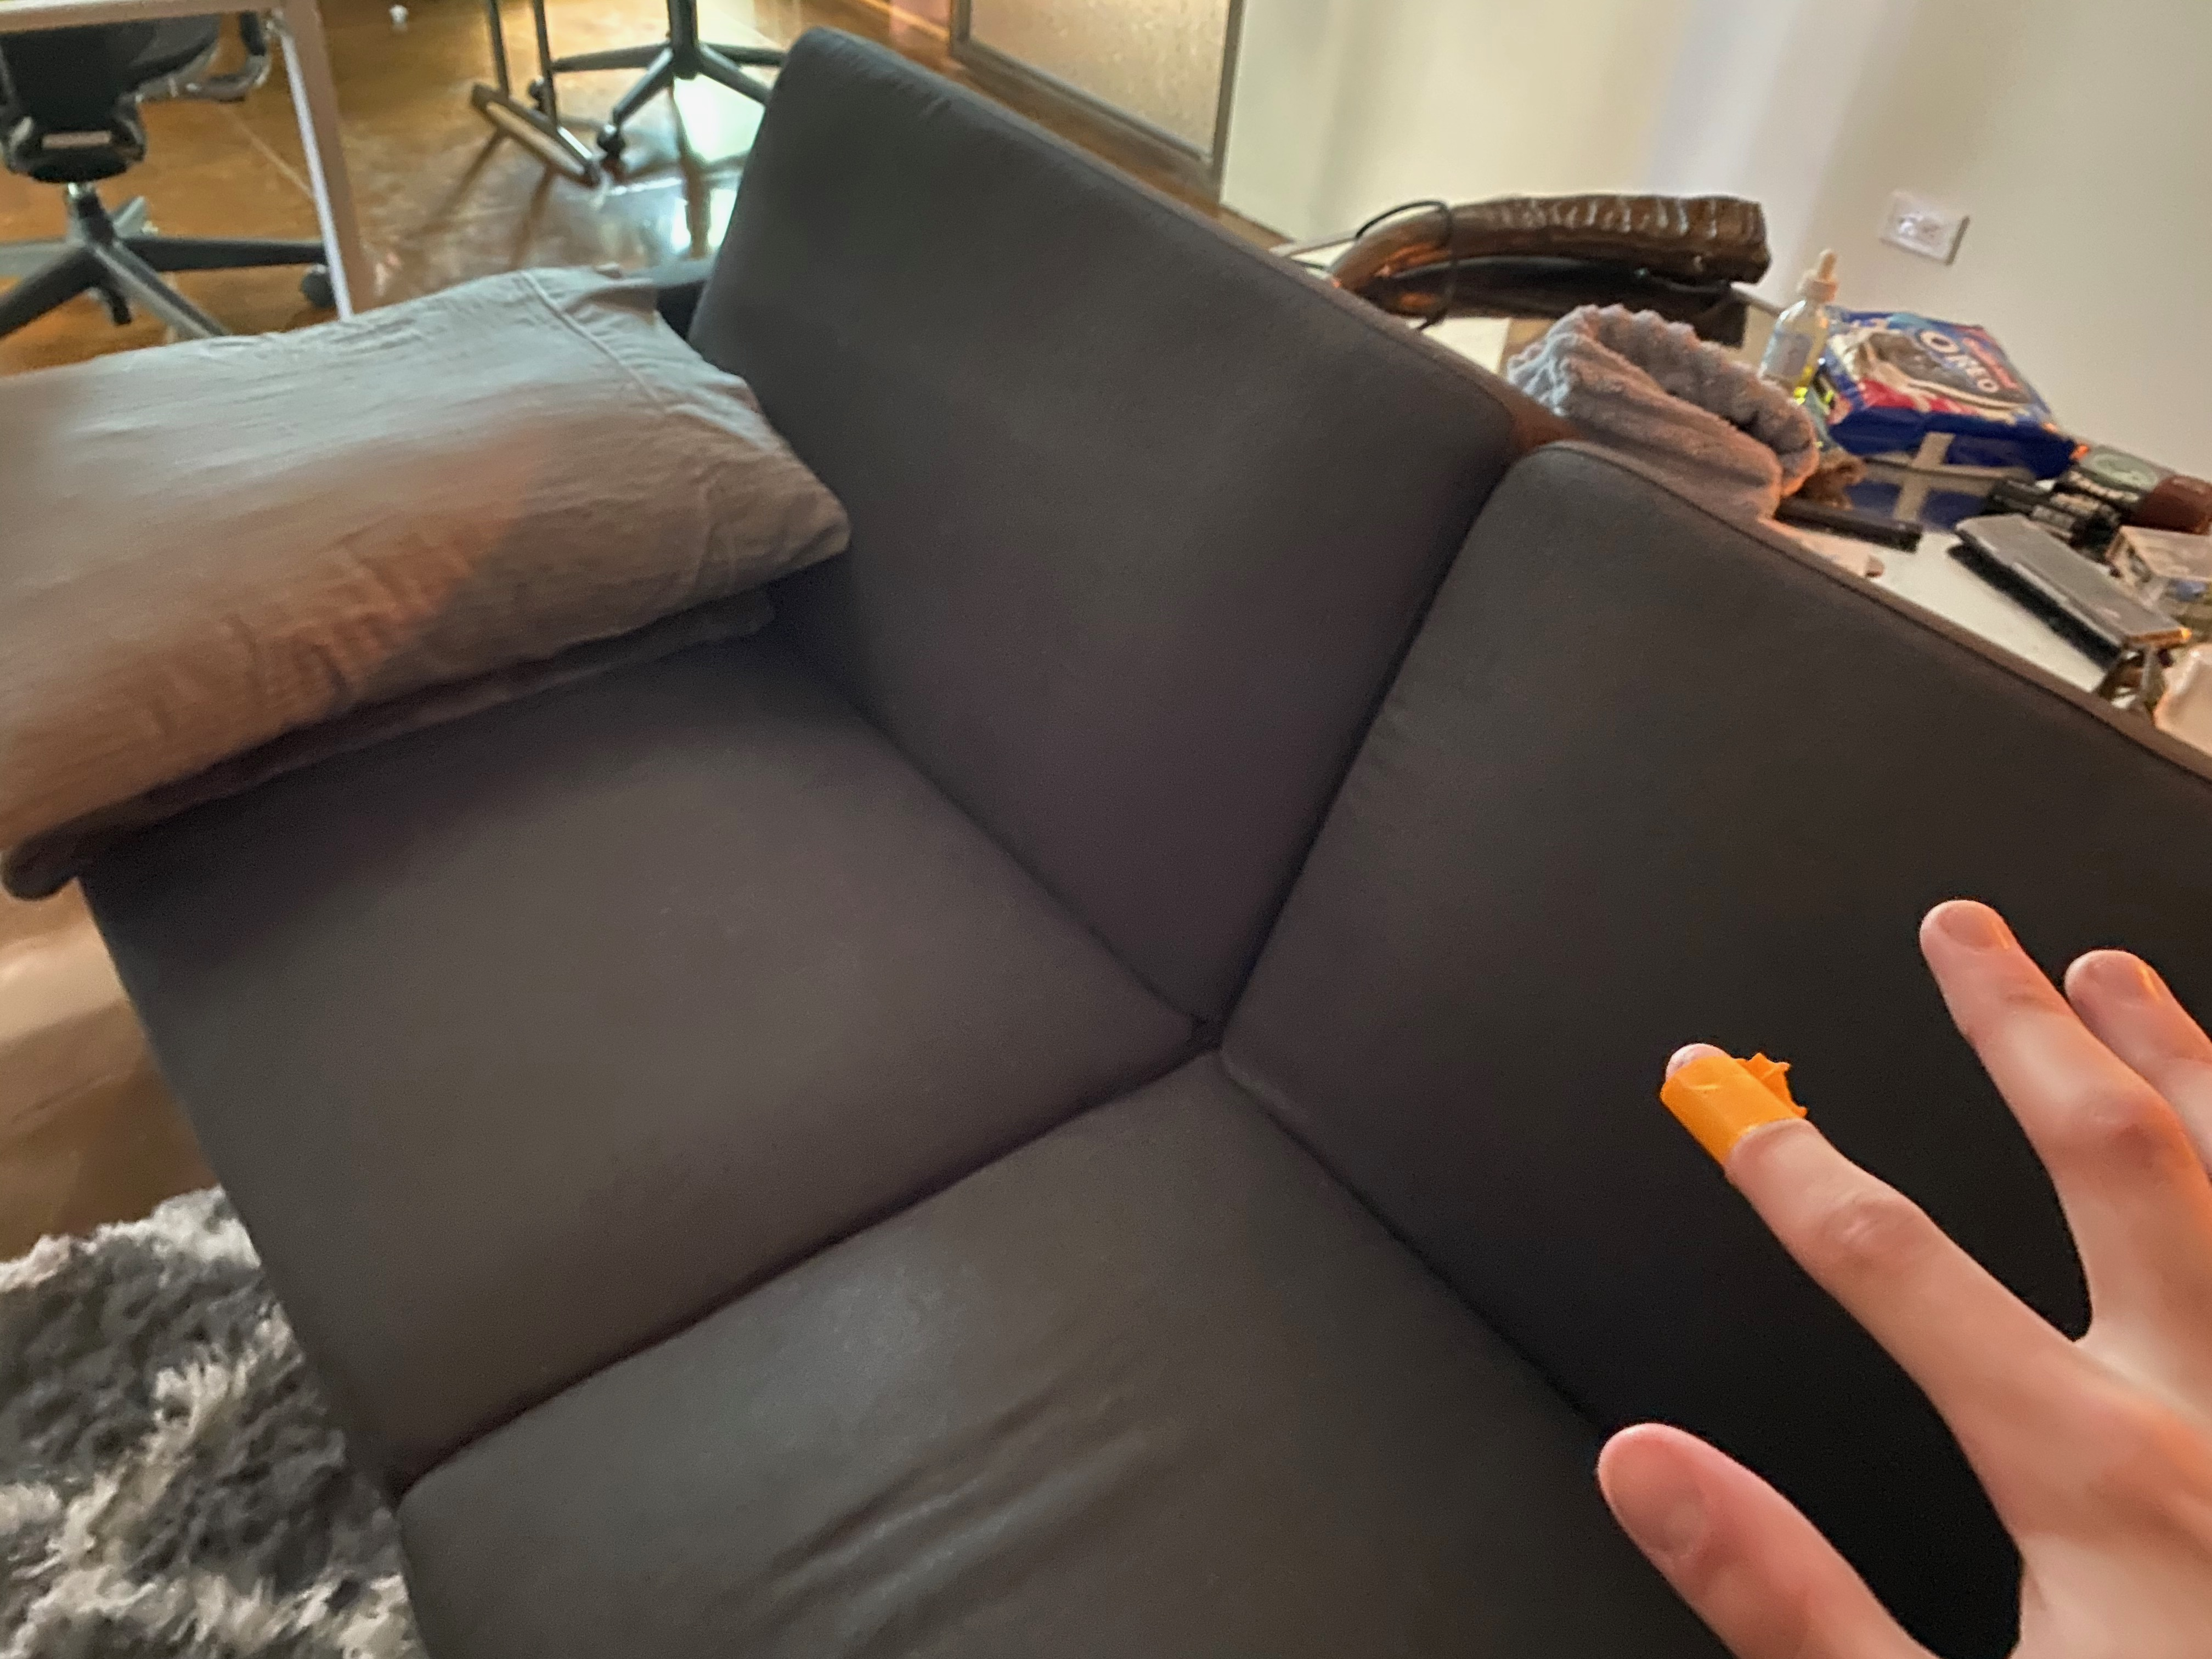fingertip: (1646, 1040, 1824, 1190)
